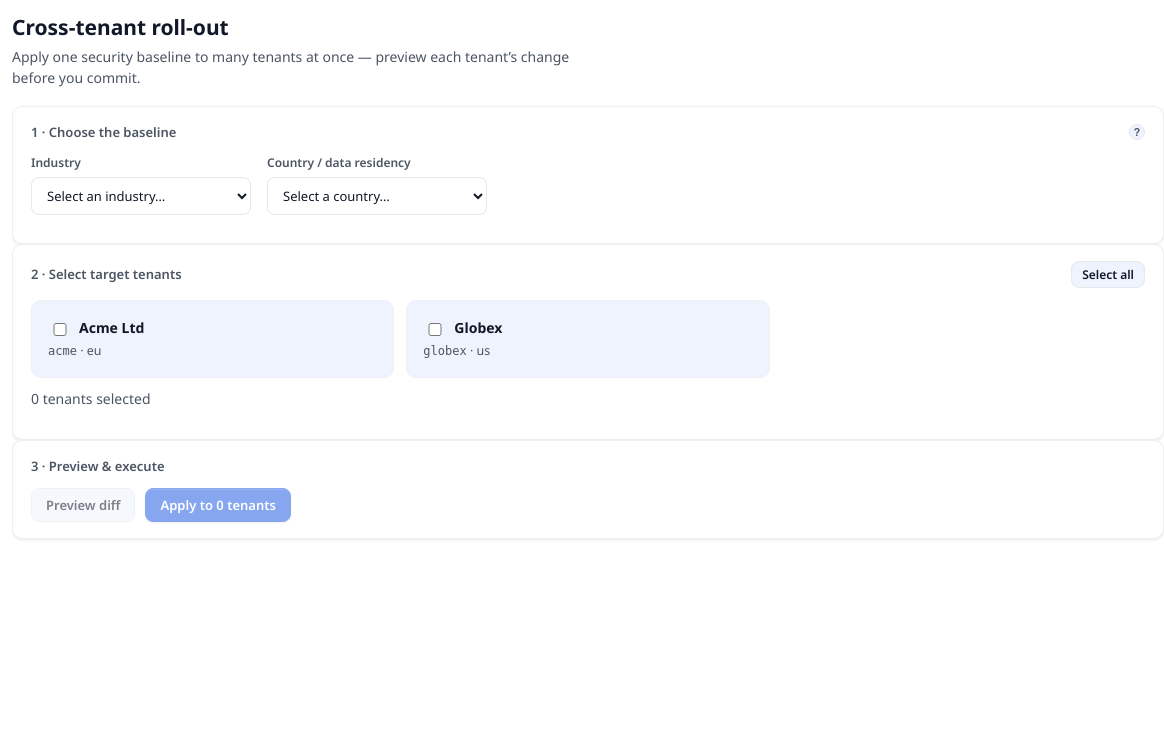
PolicyRollout › keeps execute disabled until a preview has succeeded, even with a full selection
Select "Finance" in the dropdown labelled "Industry" at (141, 196), box [31,177,251,215]
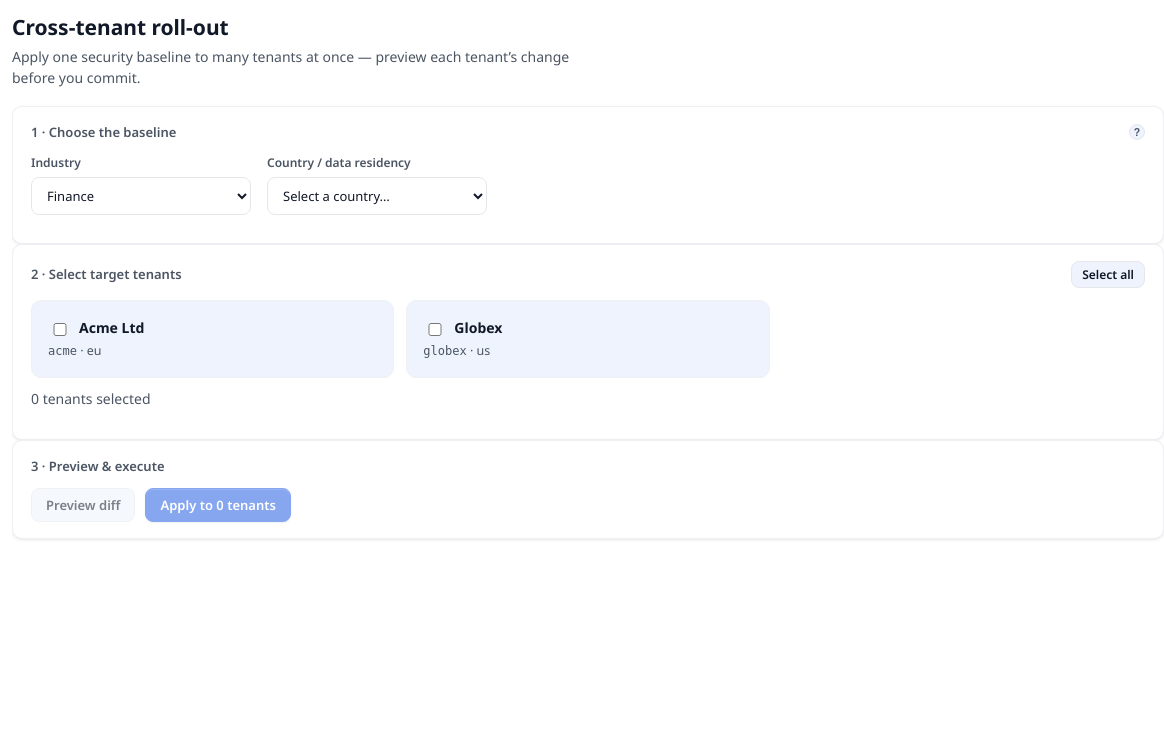
Select "DE — eu-gdpr" in the dropdown labelled "Country / data residency" at (377, 196), box [267,177,487,215]
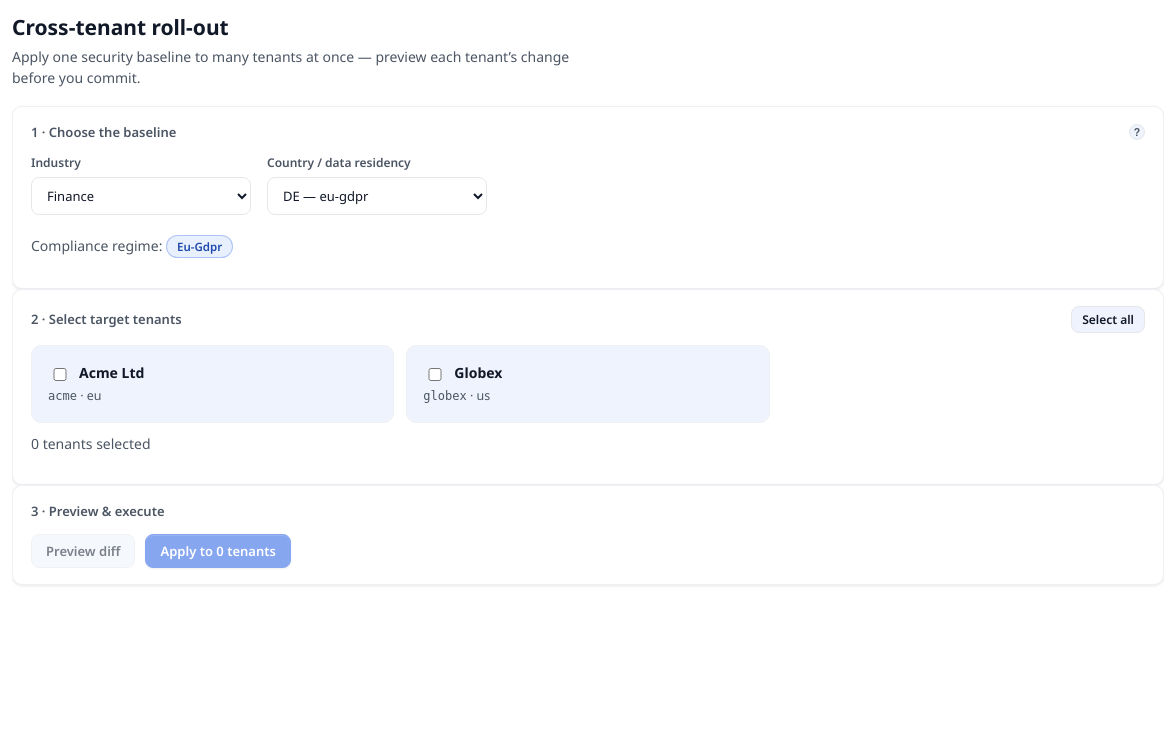
Click the checkbox labelled "Acme Ltd acme · eu" at (60, 375), box [52,368,68,381]
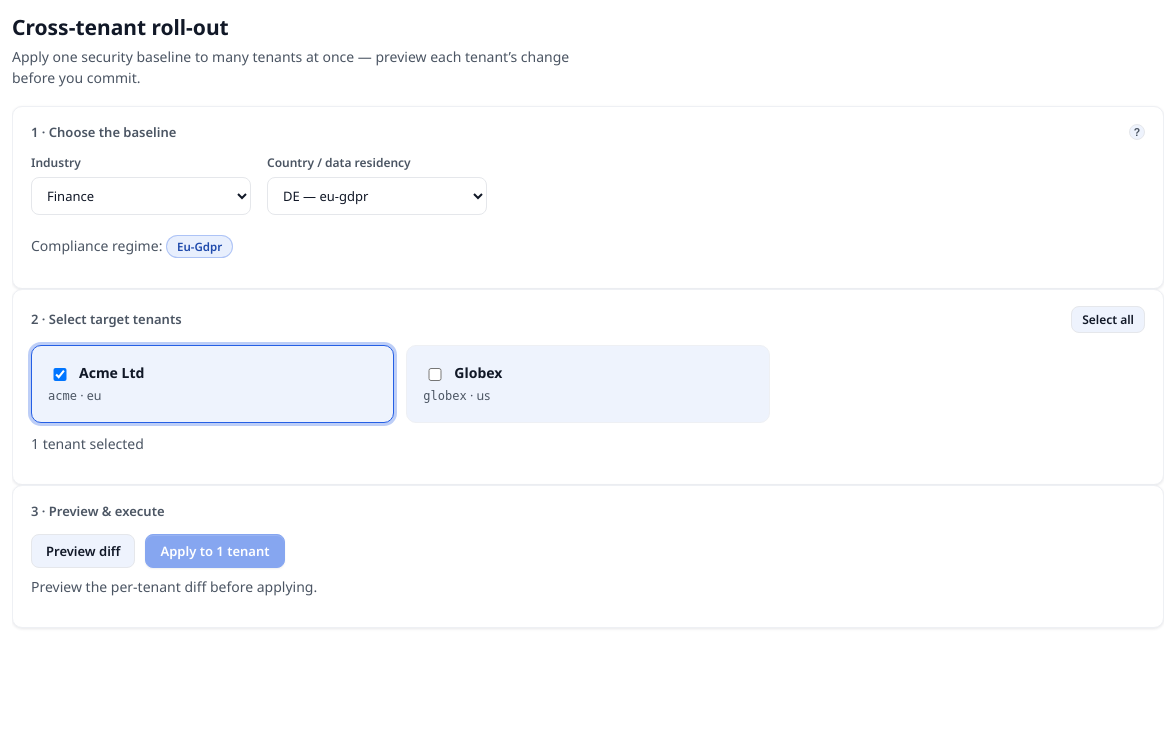
Check: the button "Apply to 1 tenant" is disabled, box [146,534,284,568]
Check: the text "Preview the per-tenant diff before applying." is shown, box [31,576,317,596]
